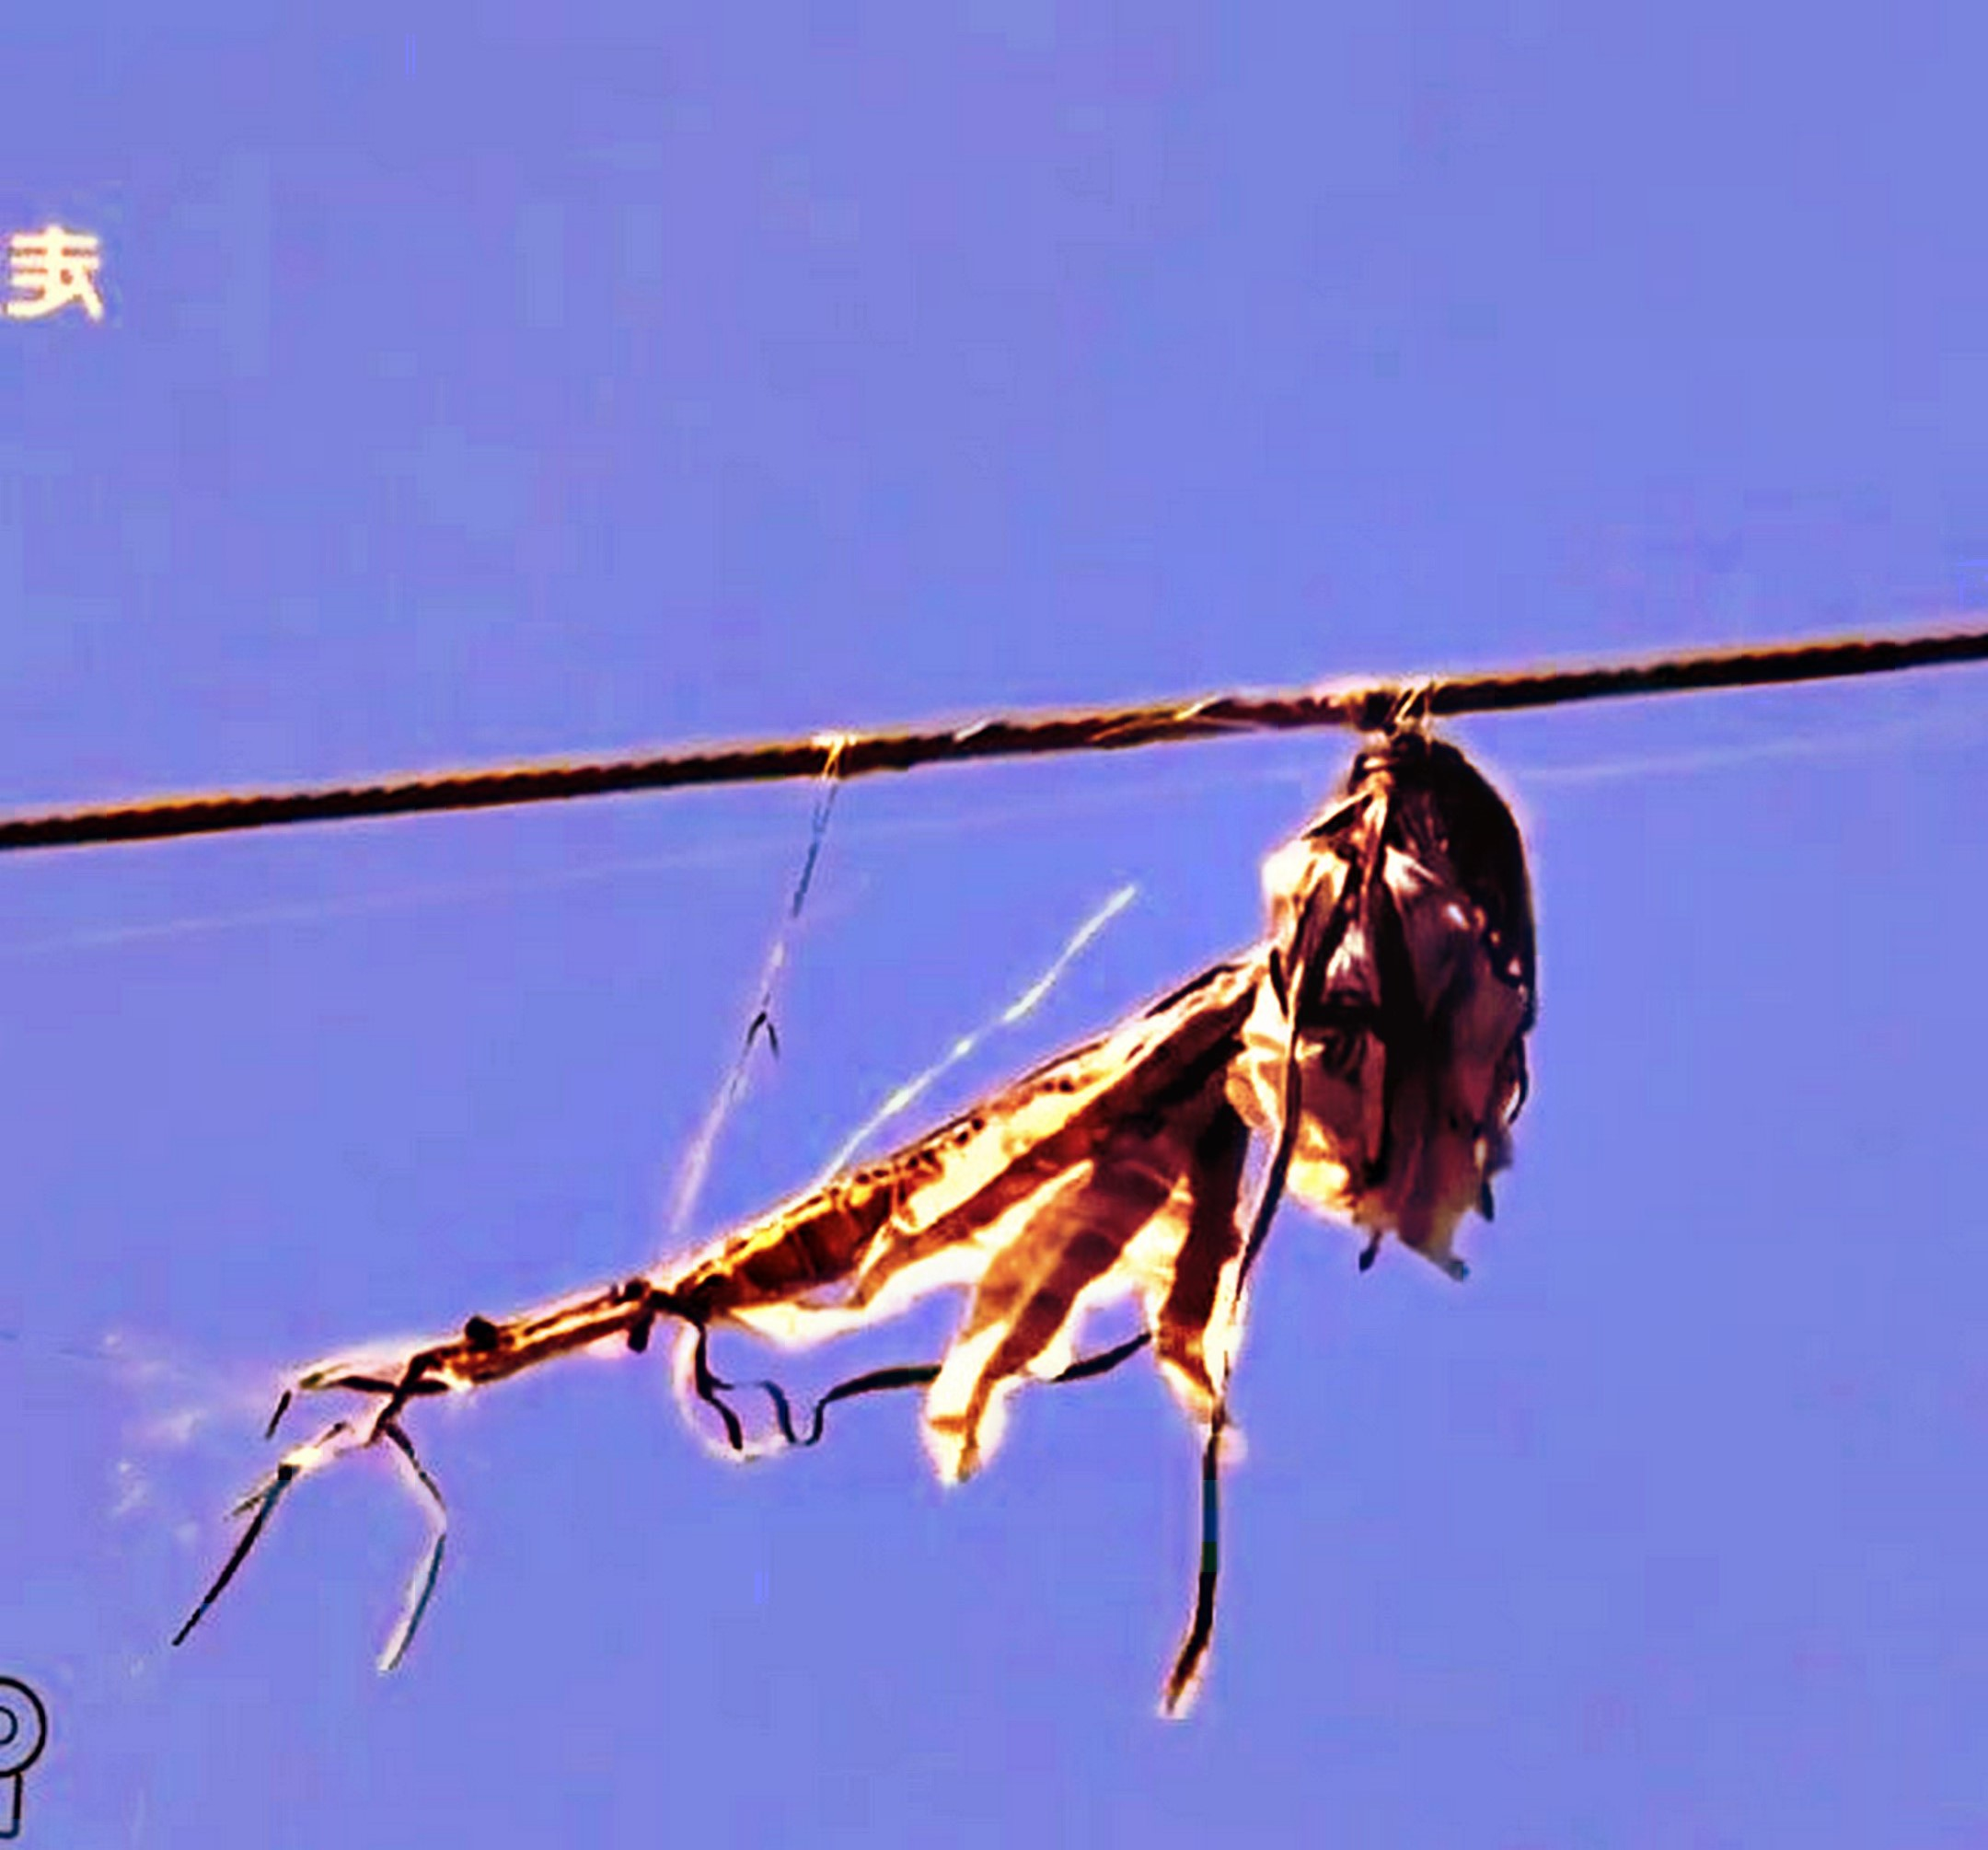wire foreign body: (607, 609, 1623, 1544)
